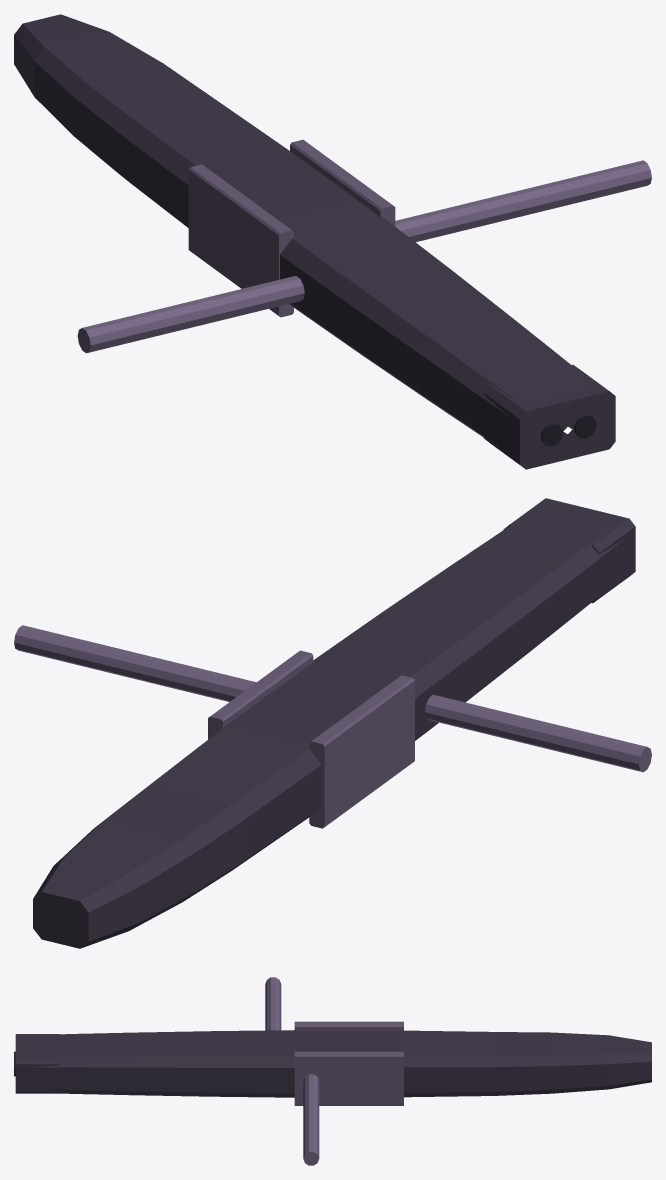
The picture shows the model from 3 angles, top to bottom: view 1: azimuth 30°, elevation 25°; view 2: azimuth 150°, elevation 25°; view 3: azimuth 270°, elevation 25°; orthographic projection. The views are drawn at different scales.
Visible parts, largest first — view 1: RIMWARD_HULL; view 2: RIMWARD_HULL; view 3: RIMWARD_HULL.
Part boxes in pixels (x1,y1,x2,y2): RIMWARD_HULL: (14,14,651,469); RIMWARD_HULL: (14,498,651,948); RIMWARD_HULL: (14,977,651,1165).
Size of the model in its own units: 4.7 by 0.6402 by 7.25.
